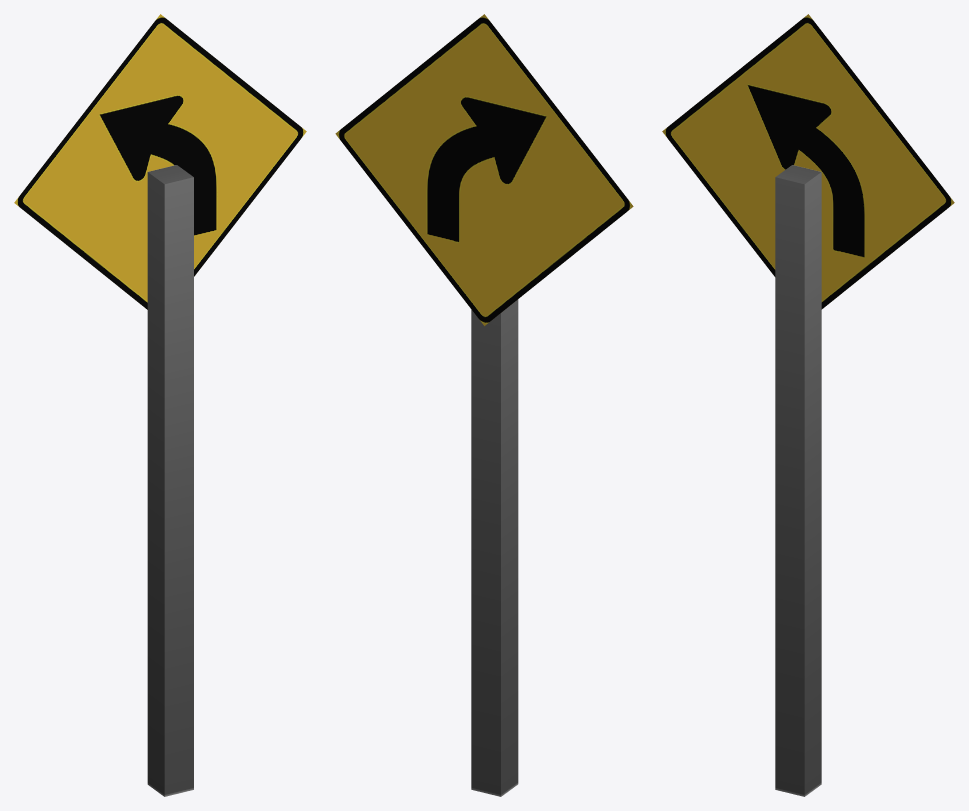
Rendered from SignCurveRight.fbx.
3 renders of one model, left to right at view 1: azimuth 30°, elevation 25°; view 2: azimuth 150°, elevation 25°; view 3: azimuth 330°, elevation 25°, orthographic.
Parts seen in each view (by area): view 1: signback, signpost, signfront; view 2: signfront, signpost, signback; view 3: signback, signpost, signfront.
Part boxes in pixels (left/top/right/bottom): signback: left=14, top=14, right=306, bottom=309; signpost: left=147, top=165, right=193, bottom=796; signfront: left=14, top=131, right=306, bottom=274; signfront: left=335, top=14, right=632, bottom=325; signpost: left=471, top=299, right=518, bottom=796; signback: left=336, top=134, right=633, bottom=271; signback: left=662, top=14, right=954, bottom=309; signpost: left=775, top=165, right=821, bottom=796; signfront: left=662, top=131, right=954, bottom=284.
Bounding box in the file's own units: 100 × 250 × 11.
2 materials, 2 textured.
